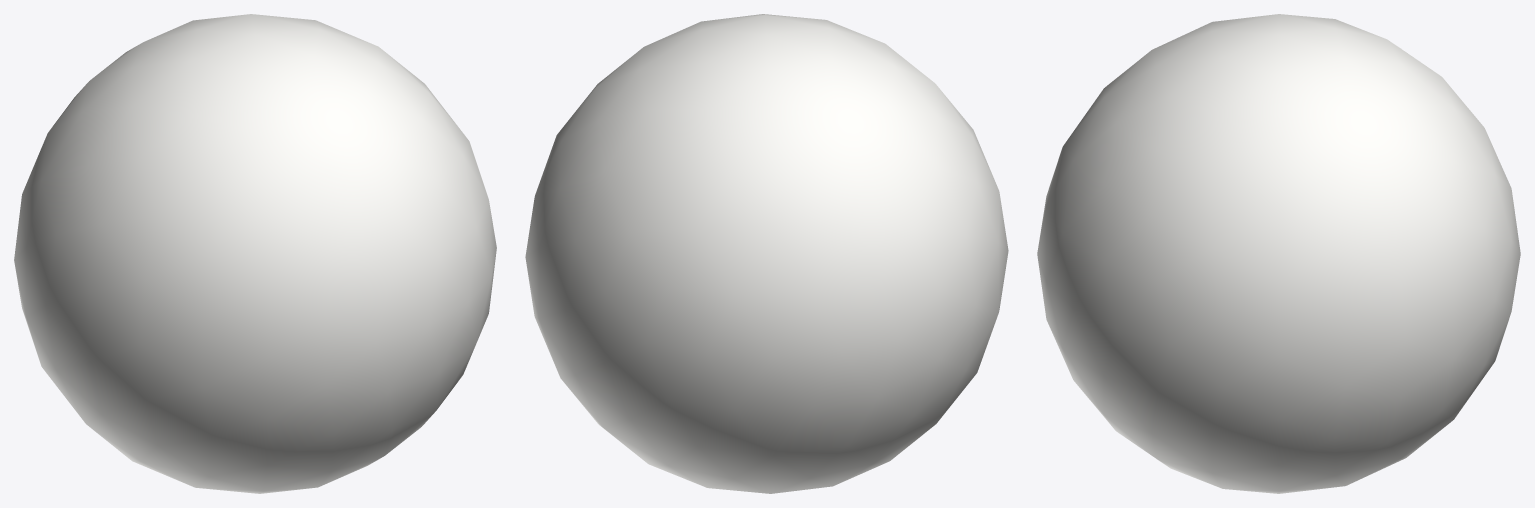
File: spherePhong.obj
The picture shows the model from 3 angles, left to right: view 1: azimuth 30°, elevation 25°; view 2: azimuth 150°, elevation 25°; view 3: azimuth 270°, elevation 25°; orthographic projection.
Visible parts, largest first — view 1: Sphere_Sphere; view 2: Sphere_Sphere; view 3: Sphere_Sphere.
Part boxes in pixels (box(x1,y1,x2,y2)): Sphere_Sphere: box(14, 14, 496, 493); Sphere_Sphere: box(525, 14, 1008, 493); Sphere_Sphere: box(1037, 14, 1520, 493).
Size of the model in its own units: 5.09 by 5.09 by 5.09.
